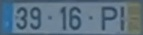1: (58, 5, 68, 31)
3: (15, 6, 28, 31)
6: (69, 5, 82, 31)
9: (29, 6, 42, 31)
I: (119, 5, 126, 32)
P: (100, 6, 118, 31)
